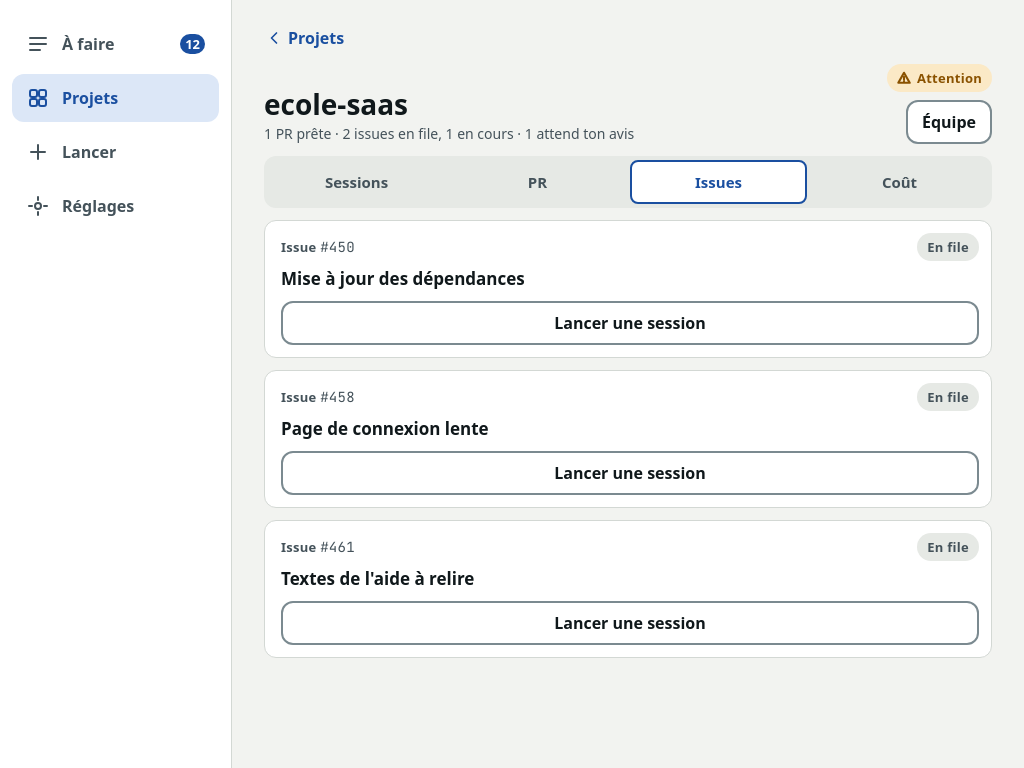
Test case: Lancer du travail › depuis l’onglet Issues d’un projet, l’issue est présélectionnée
The image size is (1024, 768).
Click the link "Lancer une session" below "Textes de l'aide à relire".
click(630, 623)  # box [281, 601, 979, 645]
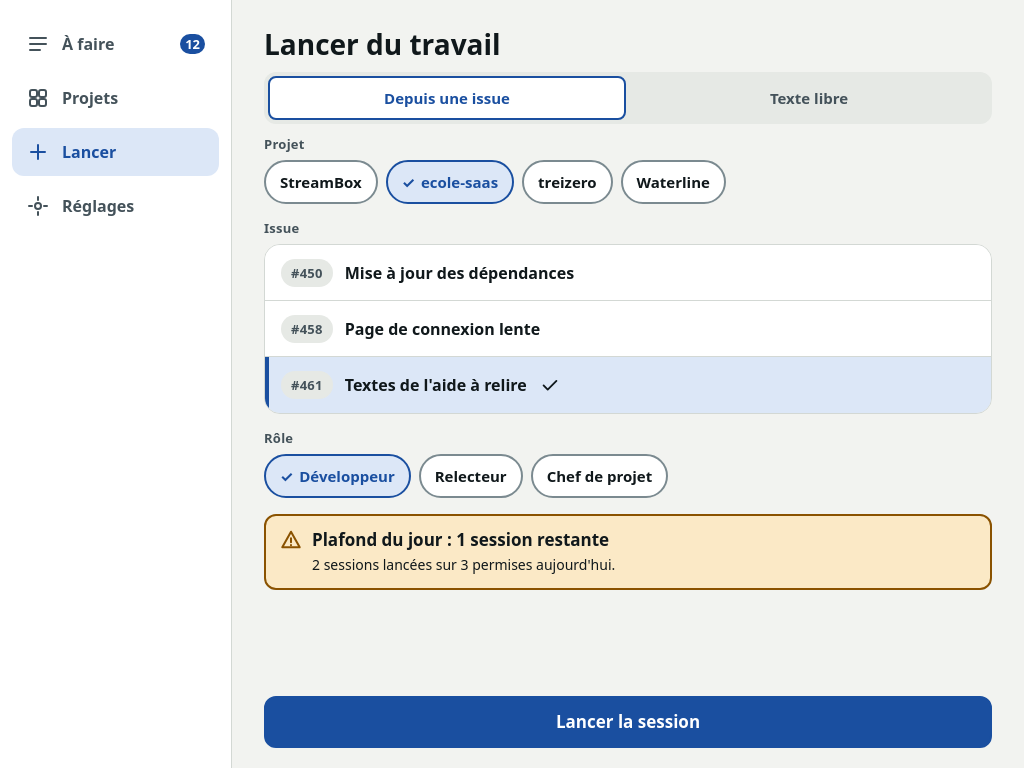
Result: the heading "Lancer du travail" is shown at [264, 28, 501, 60]
